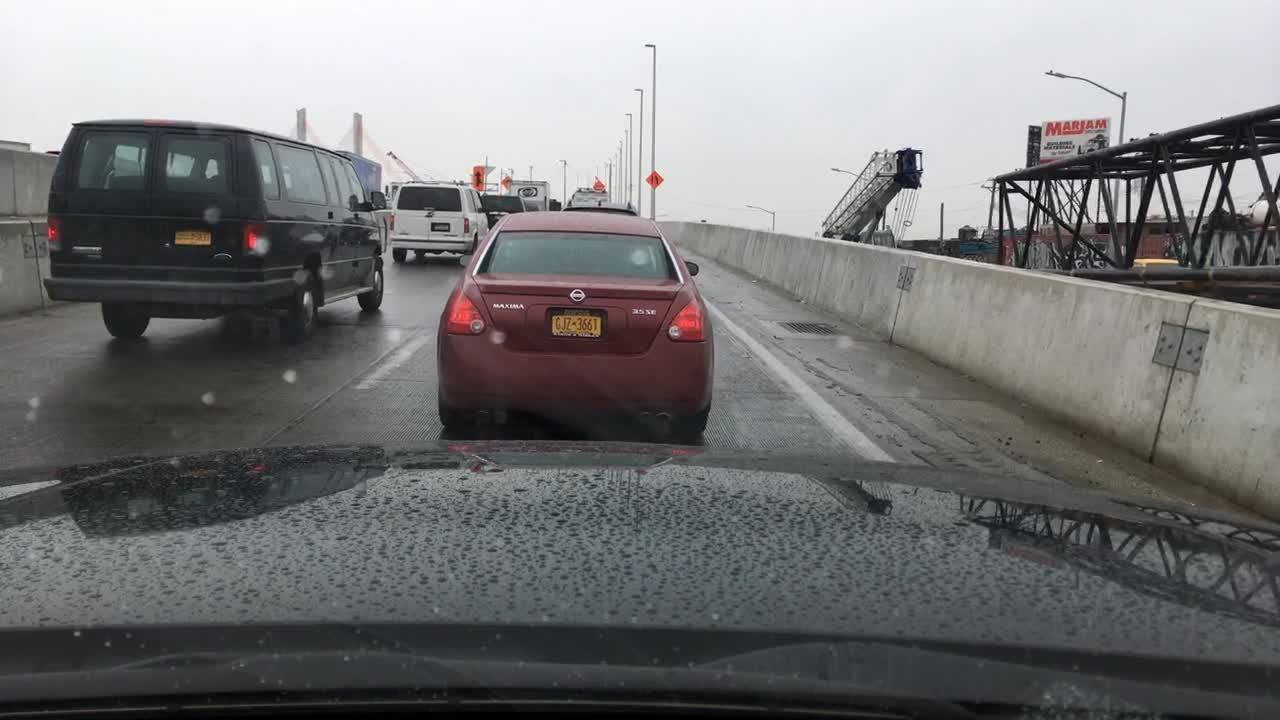Nissan: (559, 282, 598, 313)
ford: (208, 249, 237, 265)
